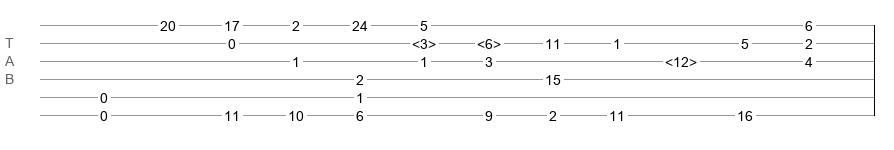0: (100, 90, 108, 100), (100, 108, 108, 118), (228, 36, 236, 46)
1: (292, 54, 300, 64), (356, 90, 364, 100), (420, 54, 428, 64), (613, 36, 621, 46)
10: (288, 108, 304, 118)
11: (224, 108, 240, 118), (545, 36, 561, 46), (609, 108, 625, 118)
15: (545, 72, 561, 82)
16: (737, 108, 753, 118)
17: (224, 18, 240, 28)
2: (292, 18, 300, 28), (356, 72, 364, 82), (549, 108, 557, 118), (805, 36, 813, 46)
20: (160, 18, 176, 28)
24: (352, 18, 368, 28)
3: (485, 54, 493, 64)
4: (805, 54, 813, 64)
5: (420, 18, 428, 28), (741, 36, 749, 46)
6: (356, 108, 364, 118), (805, 18, 813, 28)
9: (485, 108, 493, 118)
harmonic: (665, 54, 697, 64), (412, 36, 436, 46), (477, 36, 501, 46)
